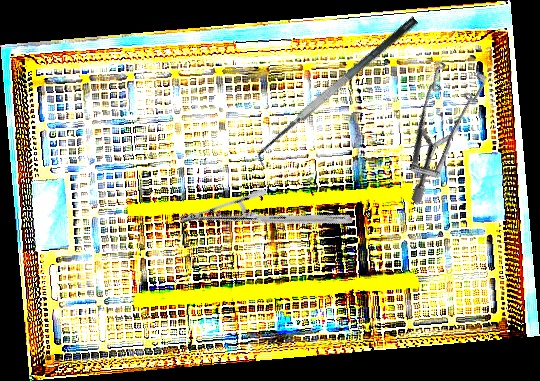Needle Holder: (177, 143, 354, 295)
Spatula Surgical: (247, 14, 430, 171)
Speculum: (353, 42, 523, 206)
